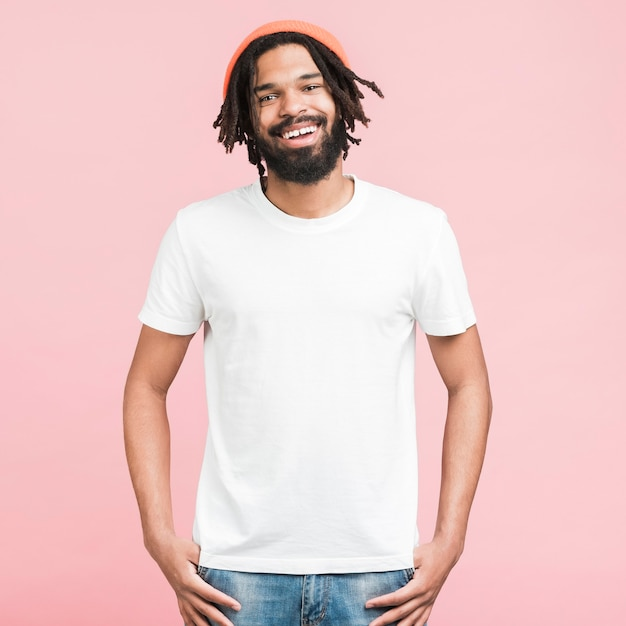young: (211, 17, 379, 213)
